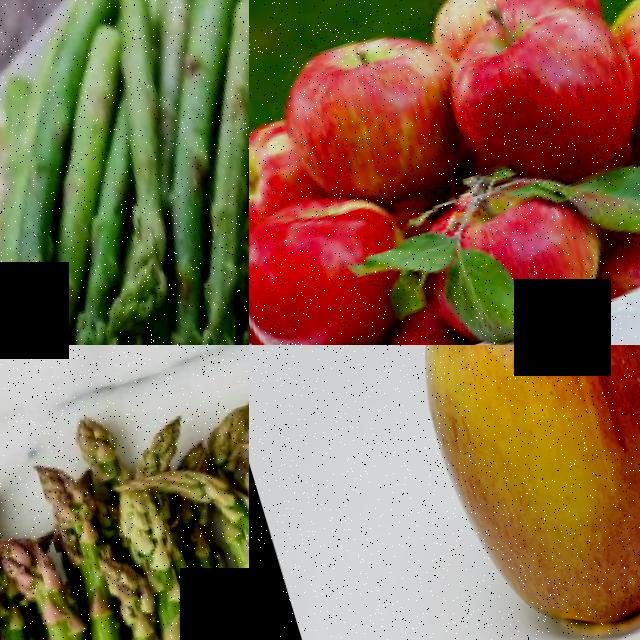apple: (362, 345, 640, 640), (262, 1, 467, 214), (431, 0, 640, 201), (403, 152, 615, 345), (249, 170, 431, 345), (249, 107, 322, 246), (421, 0, 602, 35)
asparagus: (58, 15, 177, 323), (148, 38, 249, 305), (21, 464, 156, 640), (115, 504, 228, 640), (2, 553, 138, 640), (63, 286, 161, 345), (0, 278, 66, 345)
